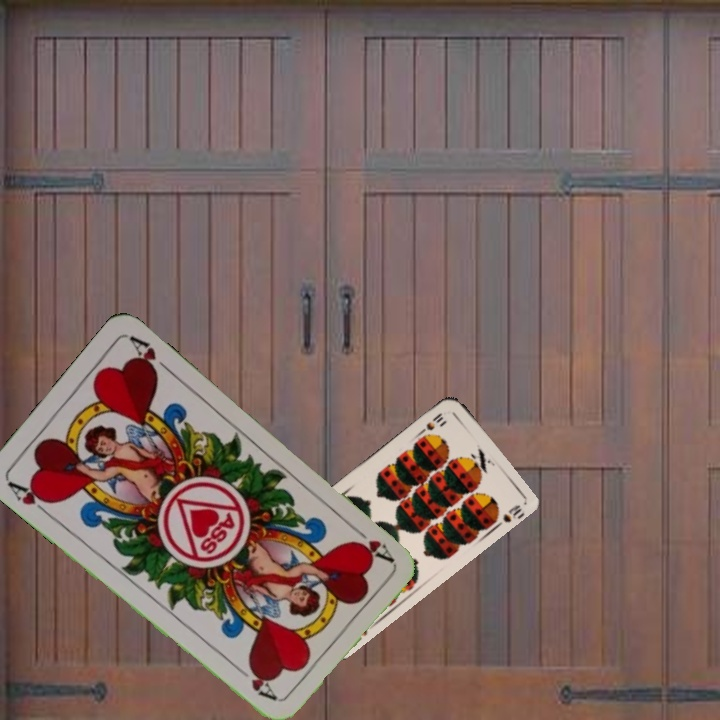HA: (3, 477, 56, 520), (346, 520, 396, 565)
S10: (416, 408, 446, 436)
